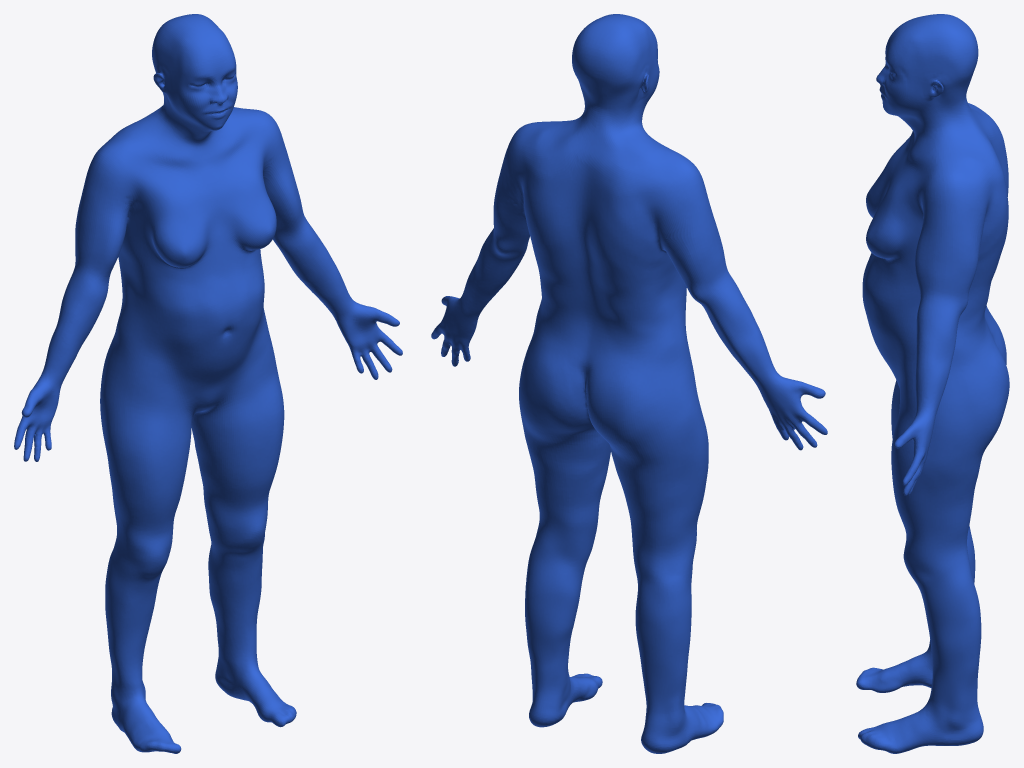
File: body-female.glb
The picture shows the model from 3 angles, left to right: view 1: azimuth 30°, elevation 25°; view 2: azimuth 150°, elevation 25°; view 3: azimuth 270°, elevation 25°; orthographic projection.
Visible parts, largest first — view 1: VH_F_skin; view 2: VH_F_skin; view 3: VH_F_skin.
Boxes of the visible parts, bbox=[...] form: VH_F_skin: bbox=[14, 14, 402, 753]; VH_F_skin: bbox=[431, 14, 827, 753]; VH_F_skin: bbox=[856, 14, 1009, 753].
Size of the model in its own units: 0.9674 by 1.67 by 0.3293.
